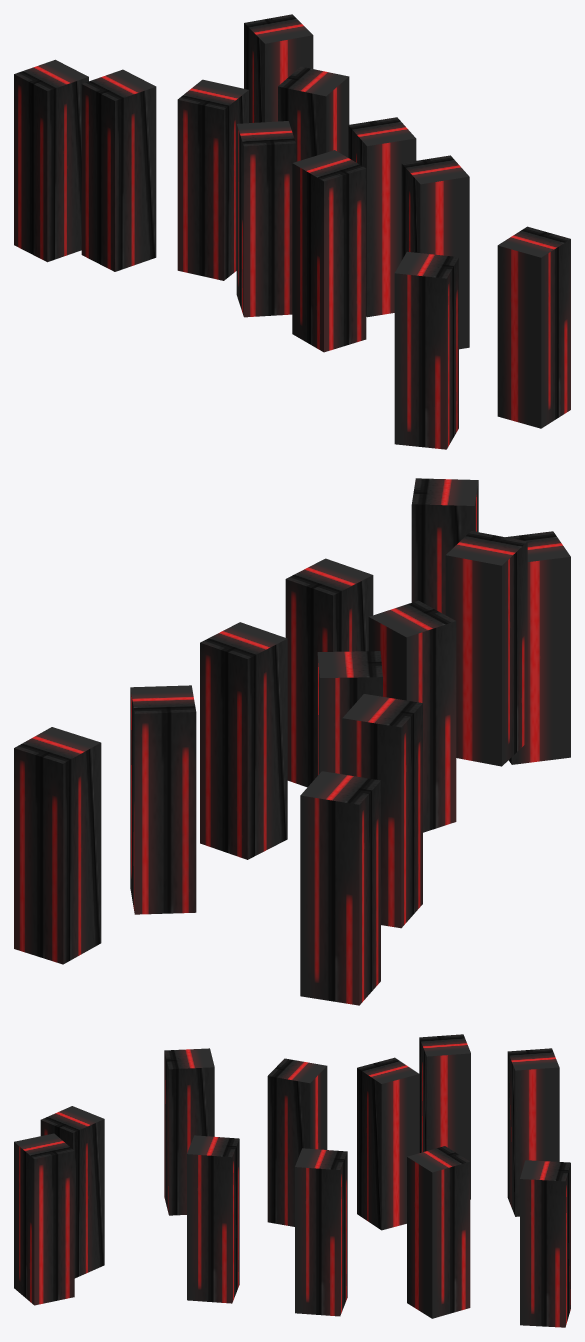
Rendered from Decoration.glb.
3 views of the same model, one above another, from view 1: azimuth 30°, elevation 25°; view 2: azimuth 150°, elevation 25°; view 3: azimuth 270°, elevation 25° (orthographic). The views are drawn at different scales.
Visible parts, largest first — view 1: Cube.009, Cube.006, Cube.002, Cube.010, Cube.001, Cube.008, Cube.007, Cube.004, Cube.003, Cube.005, Cube.011; view 2: Cube.004, Cube.011, Cube.010, Cube.006, Cube.005, Cube.009, Cube.007, Cube.003, Cube.001, Cube.002, Cube.008; view 3: Cube.005, Cube.002, Cube.008, Cube.003, Cube.004, Cube.011, Cube.007, Cube.010, Cube.006, Cube.009, Cube.001.
Boxes of the visible parts, left/top/right/bottom form: Cube.009: left=81, top=69, right=156, bottom=271; Cube.006: left=292, top=150, right=366, bottom=352; Cube.002: left=497, top=226, right=570, bottom=428; Cube.010: left=14, top=59, right=88, bottom=262; Cube.001: left=394, top=251, right=458, bottom=449; Cube.008: left=177, top=79, right=248, bottom=280; Cube.007: left=236, top=121, right=295, bottom=317; Cube.004: left=348, top=117, right=416, bottom=317; Cube.003: left=401, top=155, right=469, bottom=349; Cube.005: left=278, top=66, right=349, bottom=161; Cube.011: left=244, top=14, right=313, bottom=122; Cube.004: left=200, top=622, right=287, bottom=859; Cube.011: left=14, top=727, right=101, bottom=964; Cube.010: left=300, top=771, right=380, bottom=1005; Cube.006: left=445, top=531, right=527, bottom=766; Cube.005: left=130, top=685, right=196, bottom=914; Cube.009: left=342, top=694, right=422, bottom=928; Cube.007: left=368, top=600, right=456, bottom=832; Cube.003: left=285, top=558, right=373, bottom=787; Cube.001: left=505, top=531, right=570, bottom=764; Cube.002: left=411, top=478, right=478, bottom=614; Cube.008: left=317, top=651, right=382, bottom=775; Cube.005: left=407, top=1146, right=470, bottom=1318; Cube.002: left=14, top=1133, right=74, bottom=1305; Cube.008: left=357, top=1057, right=419, bottom=1230; Cube.003: left=187, top=1135, right=239, bottom=1303; Cube.004: left=295, top=1148, right=347, bottom=1316; Cube.011: left=520, top=1160, right=570, bottom=1327; Cube.007: left=267, top=1058, right=327, bottom=1226; Cube.010: left=507, top=1048, right=559, bottom=1216; Cube.006: left=164, top=1048, right=214, bottom=1215; Cube.009: left=419, top=1034, right=470, bottom=1199; Cube.001: left=40, top=1106, right=104, bottom=1278.
Size of the model in its own units: 204 by 155 by 403.
Materials: 1 (1 with a texture image).
